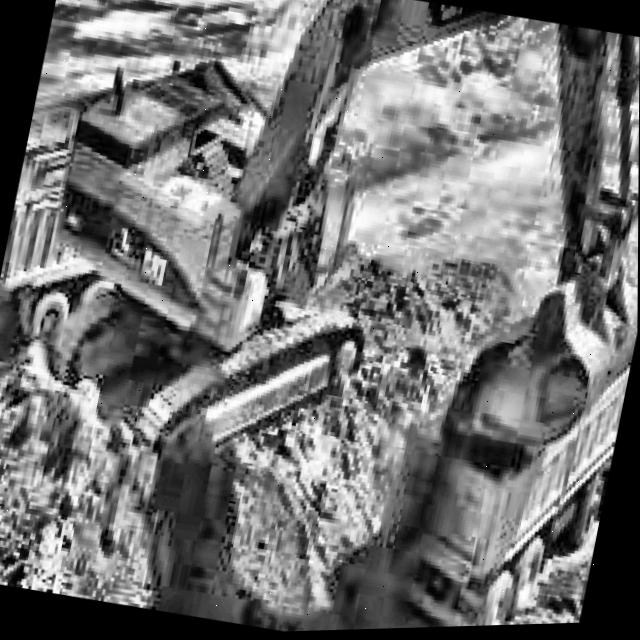dump_truck: (360, 235, 639, 632), (0, 67, 151, 352)
excavator: (1, 0, 640, 558)
